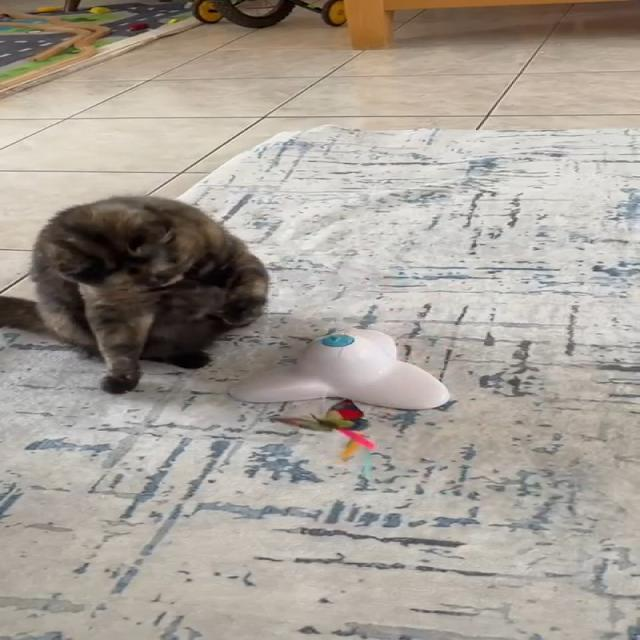authorized: (0, 194, 269, 394)
